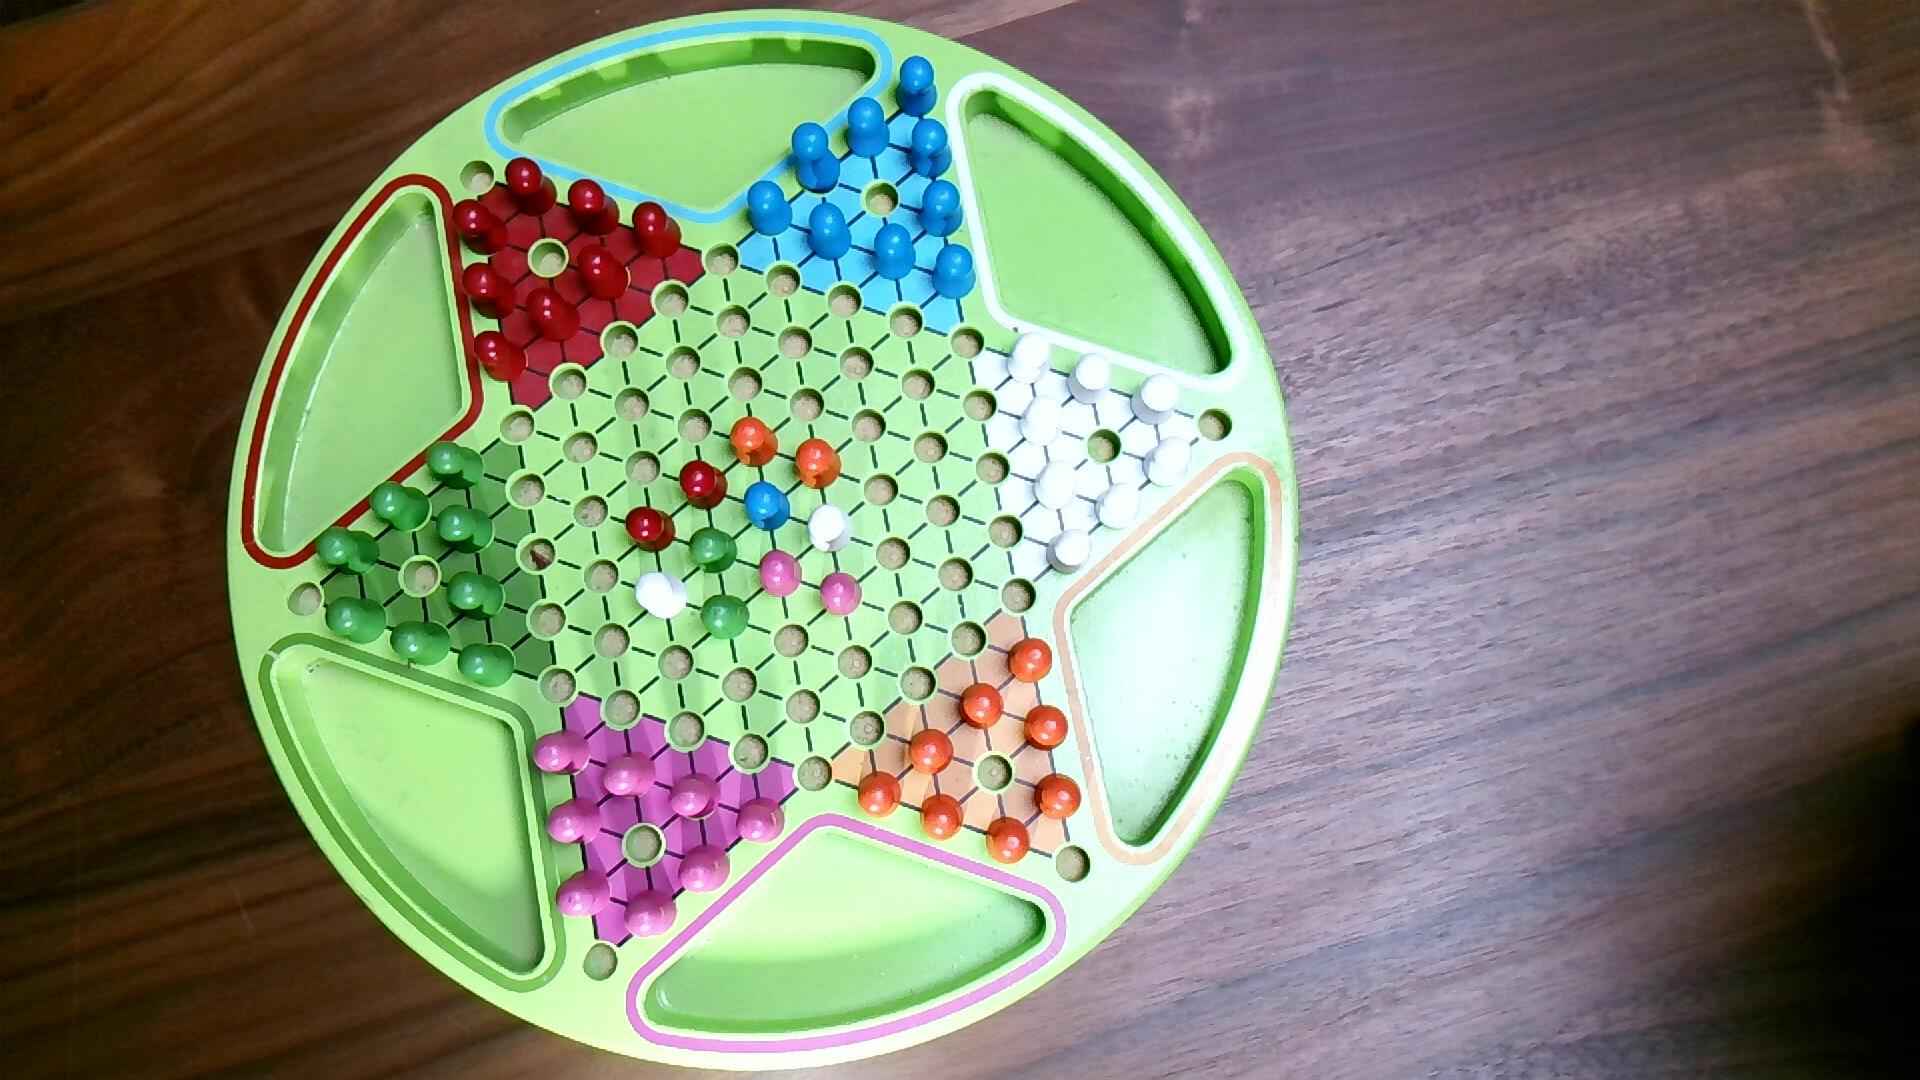B: (790, 123, 843, 194), (843, 95, 894, 161), (744, 178, 795, 240), (907, 117, 955, 182), (806, 202, 855, 264), (916, 178, 965, 240), (894, 54, 939, 120), (930, 243, 978, 302), (872, 222, 918, 284), (742, 479, 794, 534)
G: (313, 525, 382, 578), (367, 479, 433, 534), (423, 439, 487, 495), (444, 568, 506, 624), (324, 595, 389, 646), (434, 504, 496, 556), (390, 618, 454, 669), (458, 641, 518, 690), (686, 525, 740, 578), (699, 592, 752, 644)
O: (727, 415, 781, 469), (793, 436, 845, 491), (1031, 771, 1085, 823), (957, 680, 1007, 733), (906, 728, 957, 778), (918, 791, 967, 844), (1022, 703, 1071, 756), (984, 815, 1033, 866), (1006, 636, 1055, 687), (856, 770, 905, 820)
R: (450, 196, 513, 258), (460, 260, 520, 323), (574, 241, 632, 305), (502, 156, 559, 219), (567, 177, 622, 240), (630, 198, 684, 262), (524, 286, 583, 344), (473, 330, 529, 385), (678, 459, 731, 513), (625, 505, 678, 556)
R2: (554, 865, 615, 920), (545, 795, 607, 849), (531, 727, 593, 781), (621, 887, 680, 942), (676, 841, 733, 895), (669, 769, 724, 823), (603, 750, 659, 800), (735, 795, 789, 847), (758, 549, 804, 600), (818, 570, 865, 618)
W: (1127, 372, 1182, 429), (634, 570, 690, 622), (1005, 330, 1055, 388), (1142, 436, 1195, 491), (1033, 458, 1083, 514), (1065, 351, 1116, 407), (1093, 479, 1145, 533), (1015, 394, 1065, 450), (806, 502, 855, 556), (1044, 527, 1093, 578)
